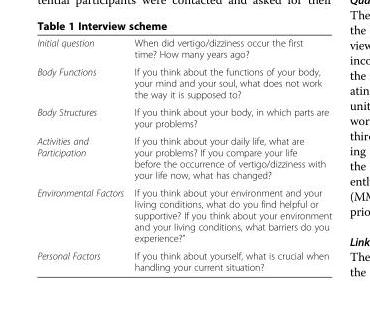table: (36, 36, 331, 272)
table column: (128, 36, 331, 272), (36, 36, 128, 272)
table row: (36, 183, 331, 246), (36, 131, 331, 183), (36, 62, 331, 102), (36, 102, 331, 131), (36, 36, 331, 62), (36, 246, 331, 272)
